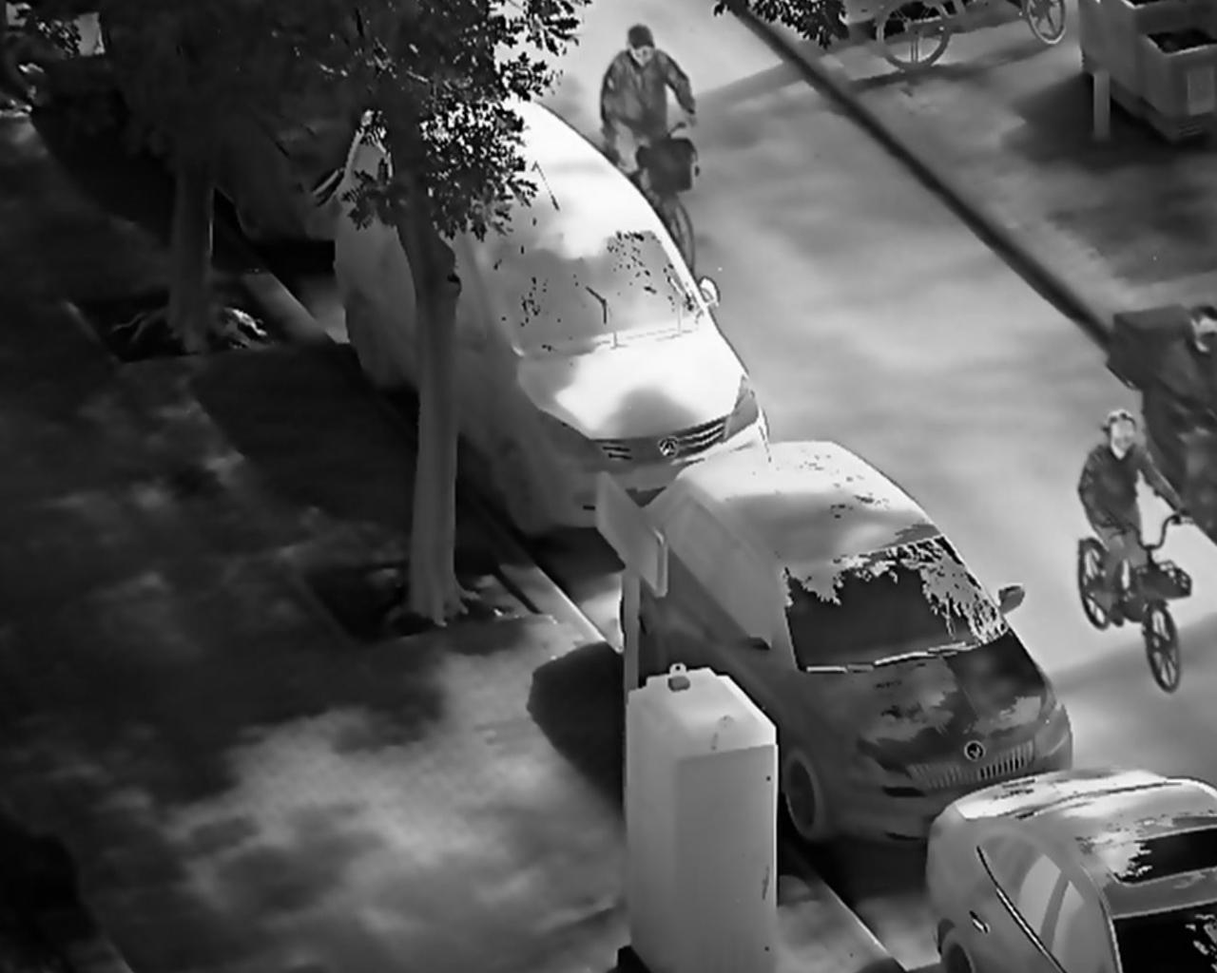person: (1076, 407, 1188, 629), (597, 25, 705, 182)
